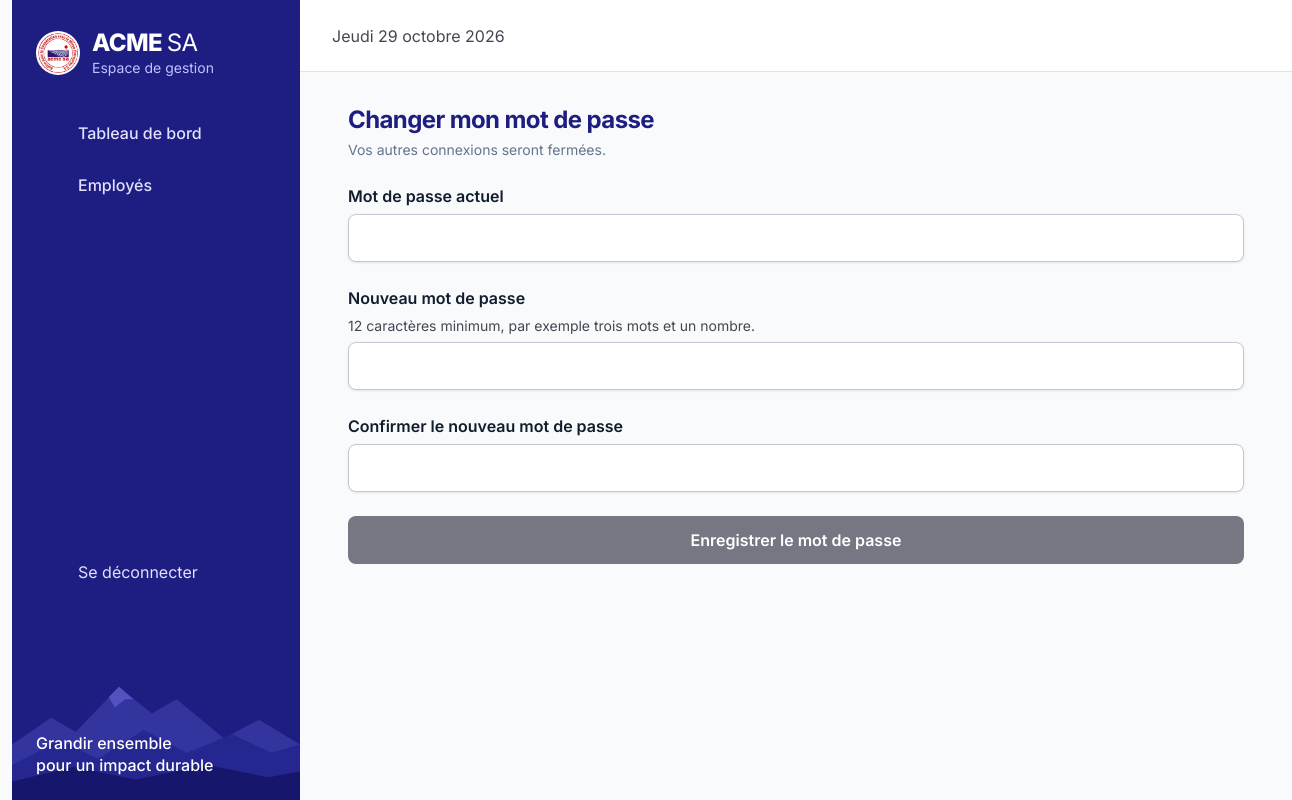
Test case: AdminPasswordPage (US-23) › CA-08 : changement volontaire → message, champs vidés
Expected: the heading "Changer mon mot de passe" is shown, [348,104,654,136]
Expected: the navigation bar named "Menu principal RH" is shown, [42,120,202,198]
Type "Admin-Test-2026" into the password field labelled "Mot de passe actuel" at point(796, 238), box [348,214,1244,262]
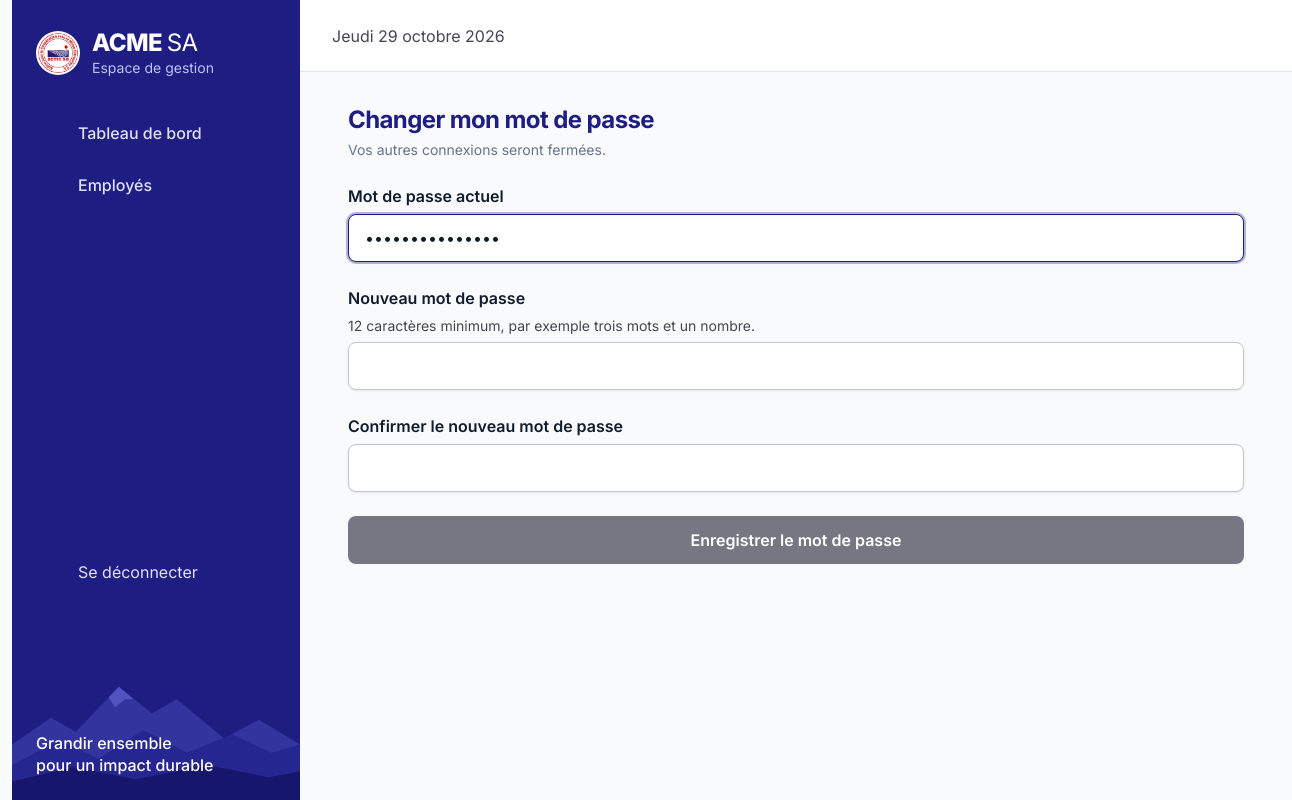
Type "Mon-propre-mot-2026" into the password field labelled "Nouveau mot de passe" at point(796, 366), box [348,342,1244,390]
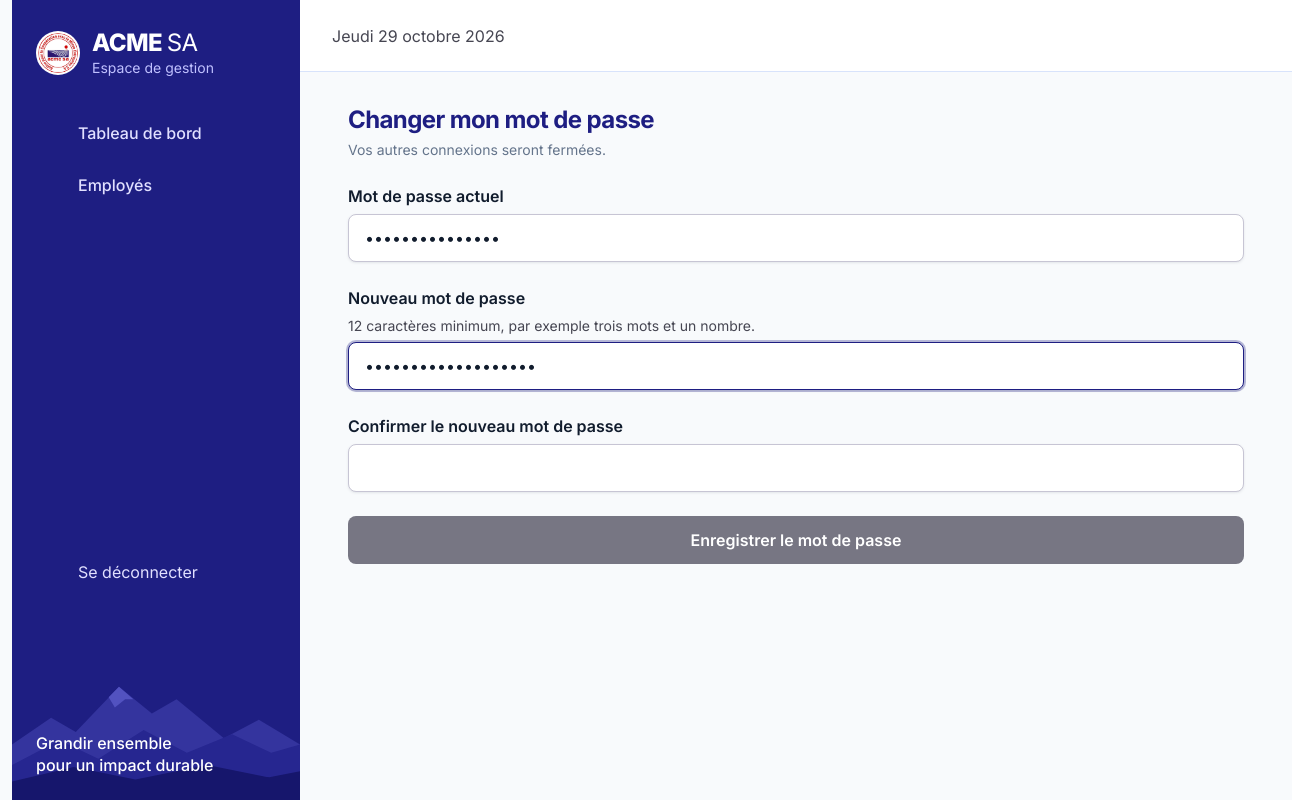
Type "Mon-propre-mot-2026" into the password field labelled "Confirmer le nouveau mot de passe" at point(796, 468), box [348,444,1244,492]
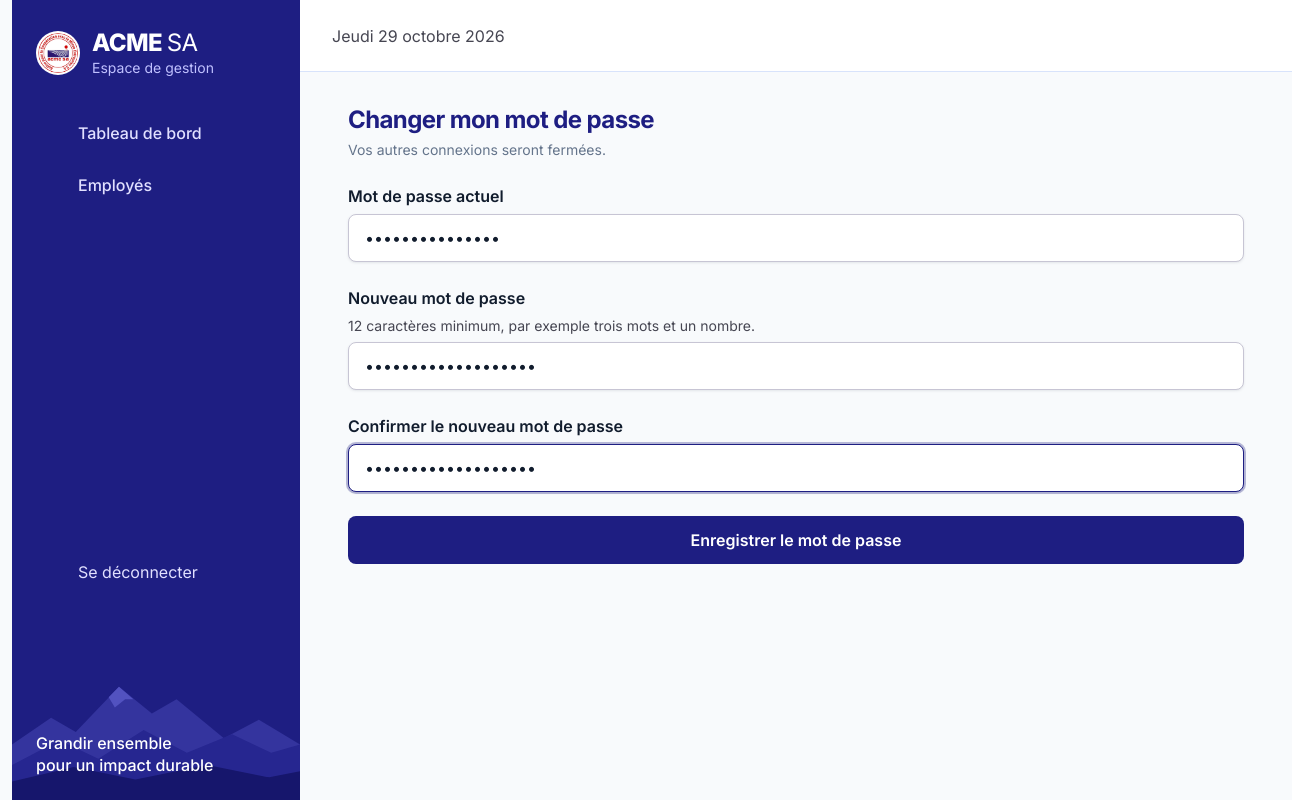
Click the button "Enregistrer le mot de passe" at point(796, 540), box [348,516,1244,564]
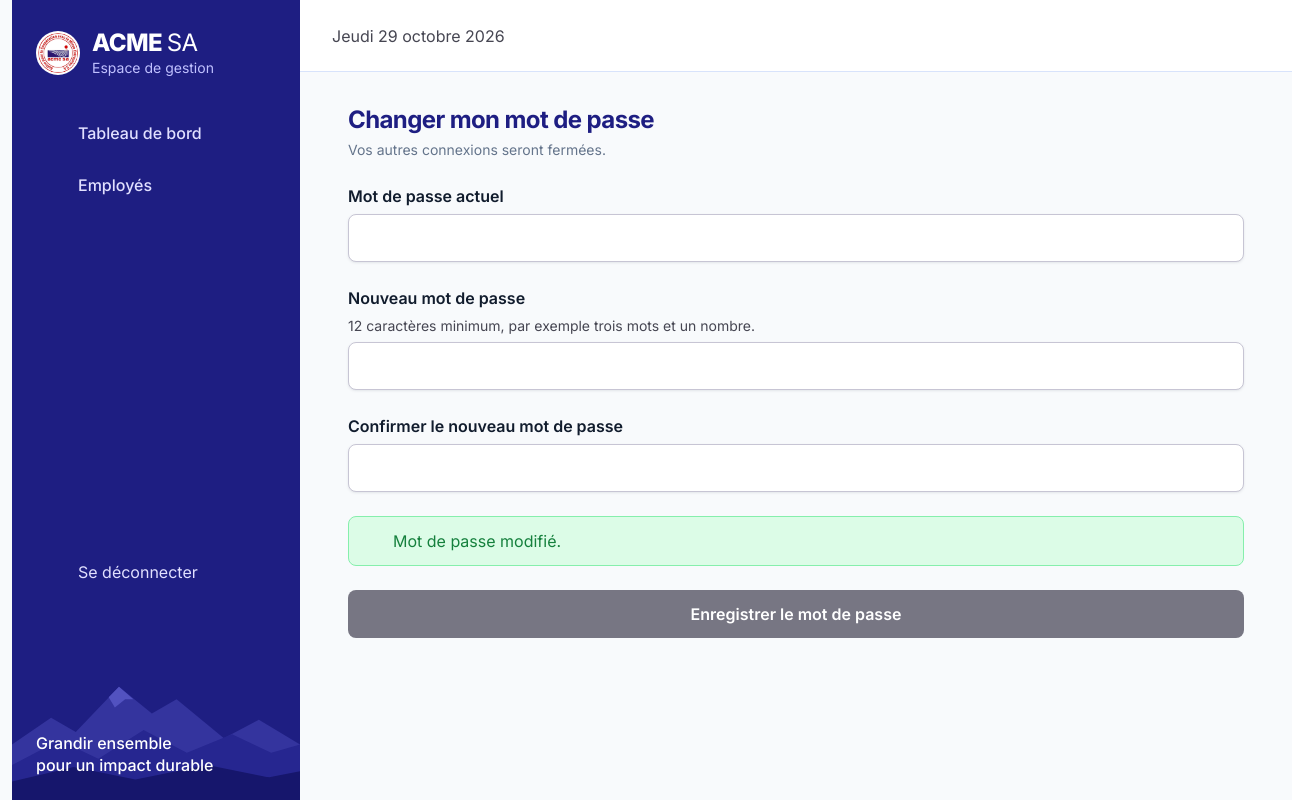
Expected: the text "Mot de passe modifié." is shown, [393,529,561,553]
Expected: the password field labelled "Mot de passe actuel" is empty, [348,214,1244,262]
Expected: the password field labelled "Nouveau mot de passe" is empty, [348,342,1244,390]
